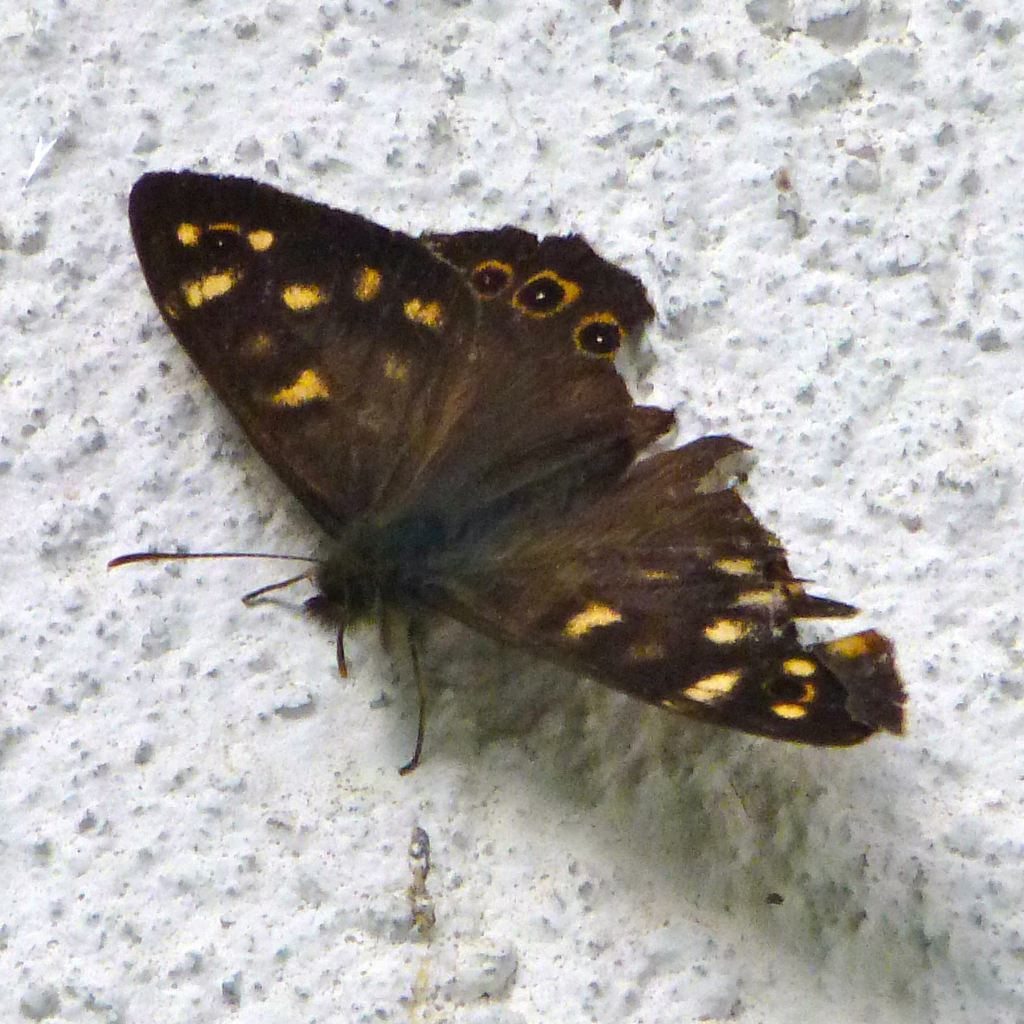Butterfly: (93, 156, 914, 799)
